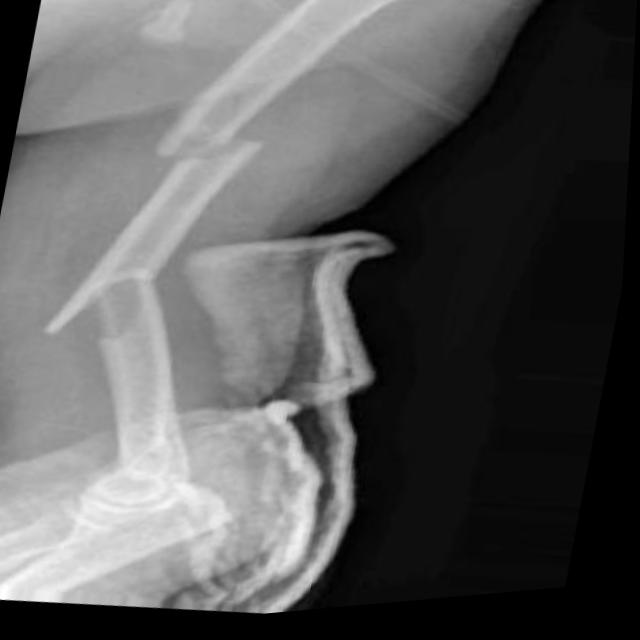fracture: (29, 239, 183, 362), (134, 108, 297, 191)
